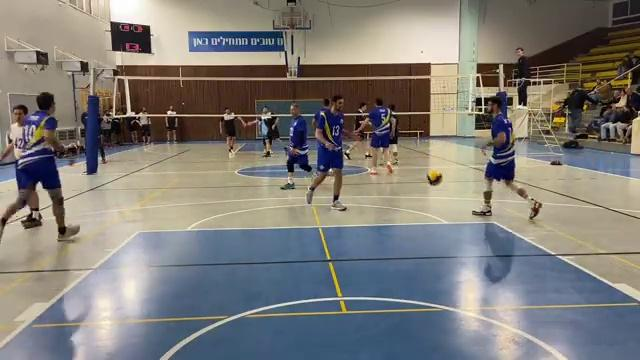ball: (426, 170, 443, 187)
